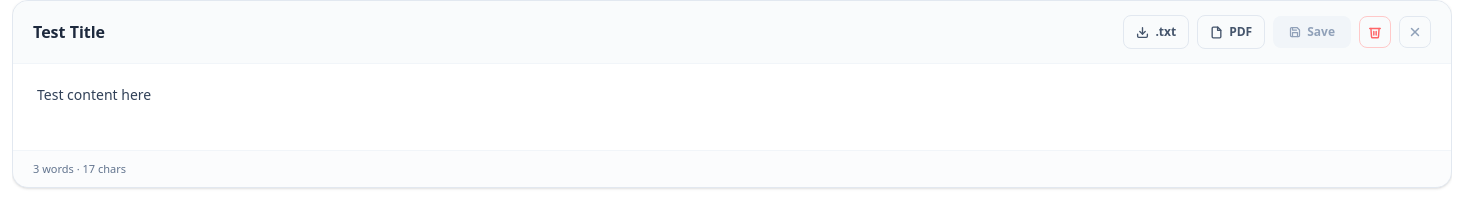
Test: NotepadEditor › clears dirty state after successful save
Replace the text in the text box with placeholder "Start writing your private note here…" with "Updated" at (732, 107), box x1=13 y1=64 x2=1451 y2=150
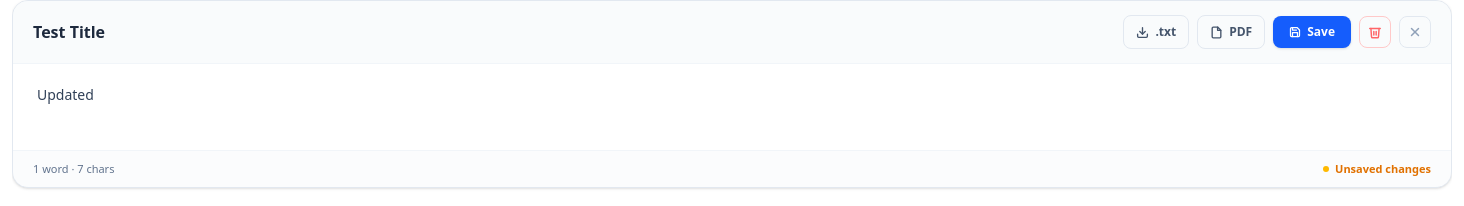
Check: the text "Unsaved changes" is shown, box x1=1335 y1=160 x2=1431 y2=177
Click the button "Save" at (1312, 32), box x1=1273 y1=16 x2=1351 y2=48
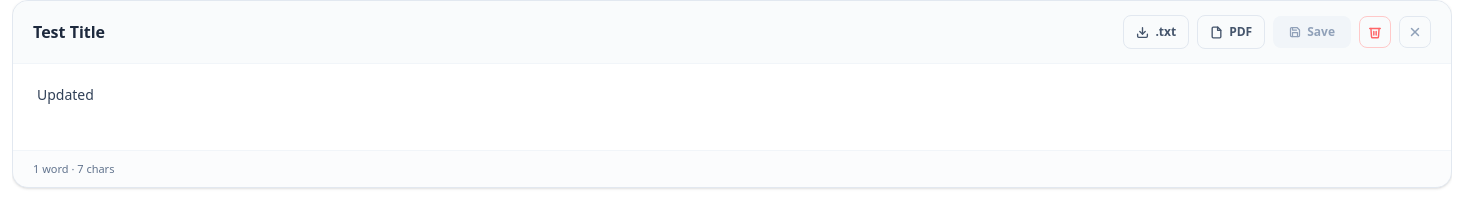
Check: the text "Unsaved changes" is gone
